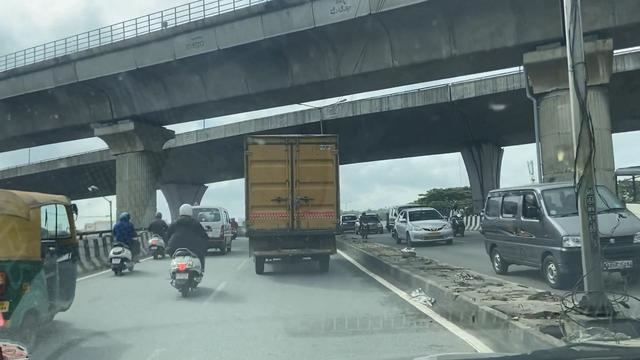HMV: (246, 134, 333, 284)
LMV: (168, 207, 199, 284), (107, 209, 141, 278)
